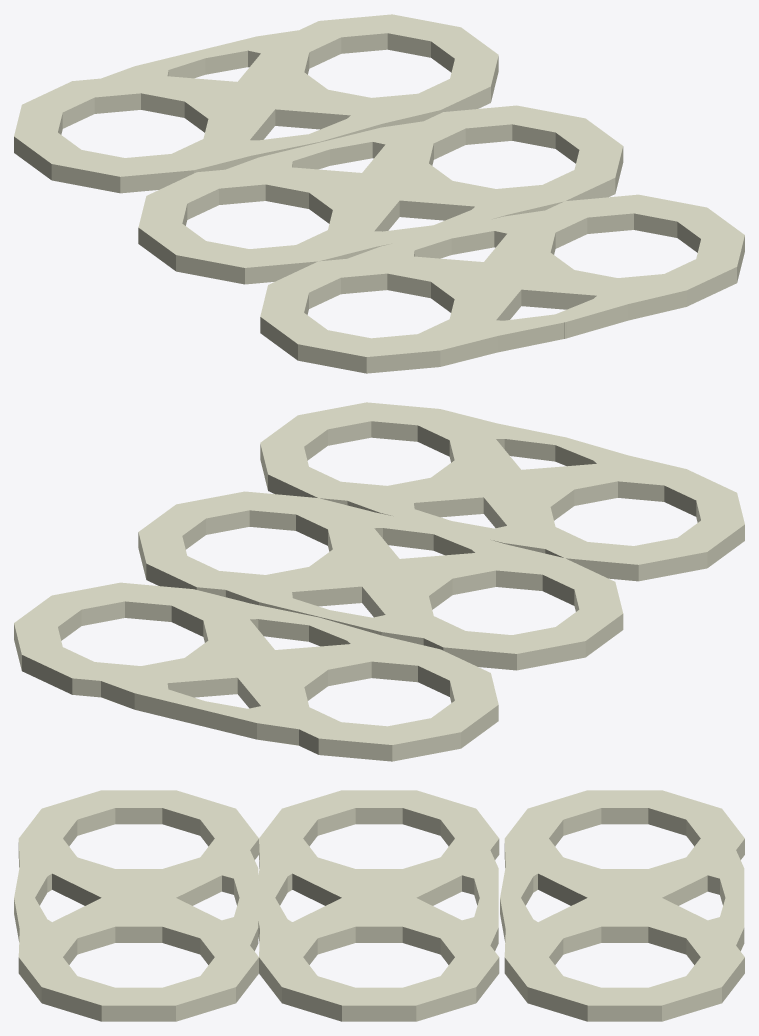
The model's file is trash_proto.fbx.
The picture shows the model from 3 angles, top to bottom: view 1: azimuth 30°, elevation 25°; view 2: azimuth 150°, elevation 25°; view 3: azimuth 270°, elevation 25°; orthographic projection.
Visible parts, largest first — view 1: Cylinder; view 2: Cylinder; view 3: Cylinder.
Boxes of the visible parts, bbox=[...] form: Cylinder: bbox=[14, 14, 744, 373]; Cylinder: bbox=[14, 402, 744, 761]; Cylinder: bbox=[14, 790, 744, 1021].
Bounding box in the file's own units: 4.24 × 0.1495 × 6.08.
